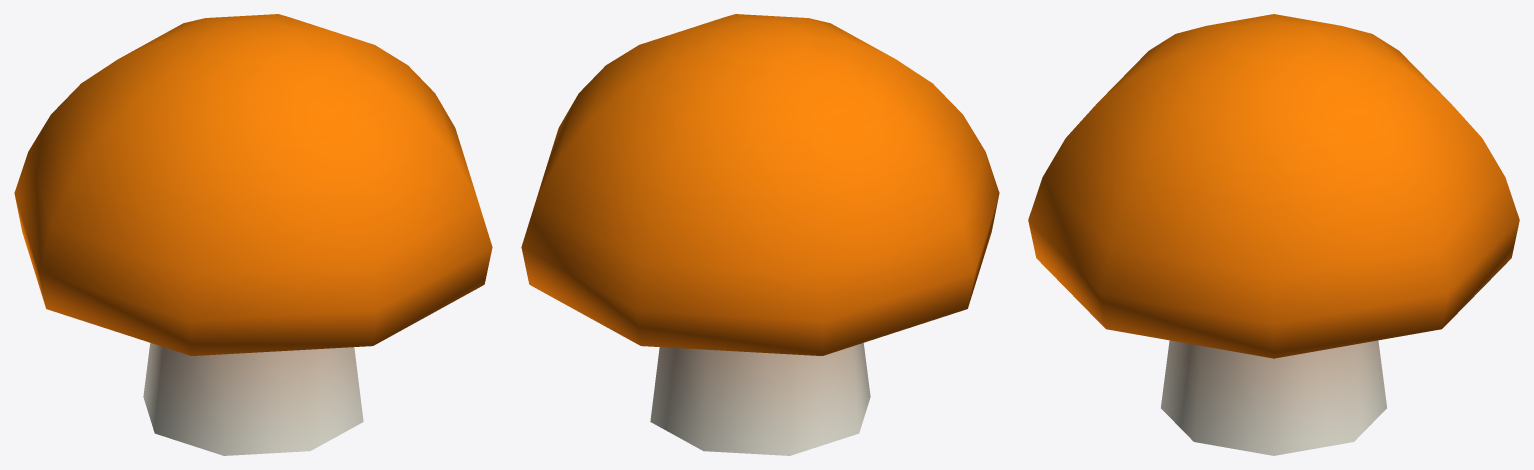
File: mushroom_orange.fbx
3 renders of one model, left to right at view 1: azimuth 30°, elevation 25°; view 2: azimuth 150°, elevation 25°; view 3: azimuth 270°, elevation 25°, orthographic.
Visible parts, largest first — view 1: mushroom_brown.001; view 2: mushroom_brown.001; view 3: mushroom_brown.001.
Part boxes in pixels (x1,y1,x2,y2): mushroom_brown.001: (14,14,492,455); mushroom_brown.001: (521,14,999,455); mushroom_brown.001: (1028,14,1519,455).
Bounding box in the file's own units: 36.77 × 30.61 × 36.77.
